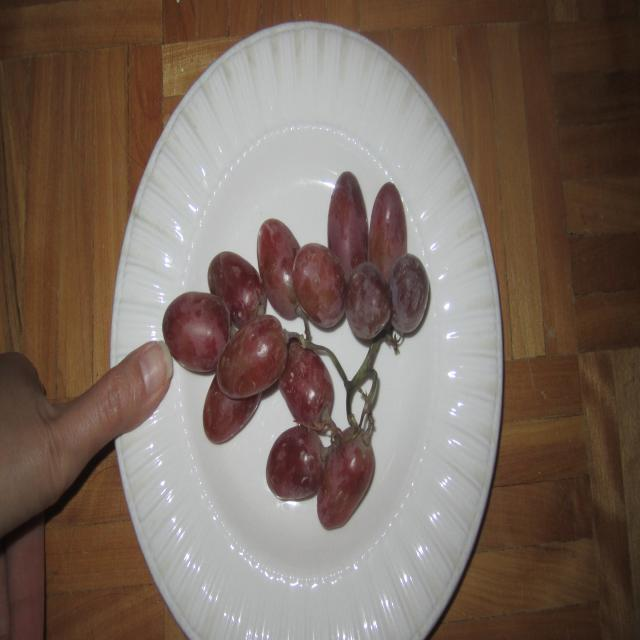Finger: (79, 342, 178, 455)
Grapes: (184, 169, 439, 541)
